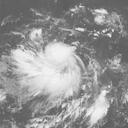cyclone: (24, 42, 82, 98)
